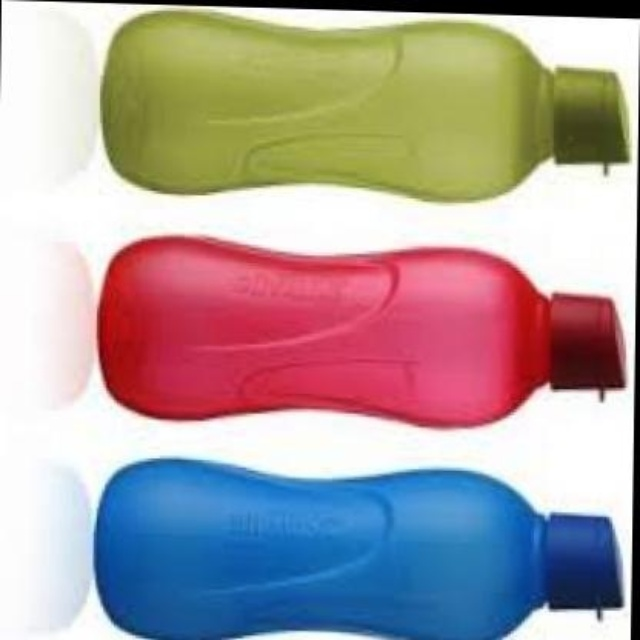trash: (102, 11, 628, 200), (98, 237, 623, 425), (95, 460, 620, 638)
